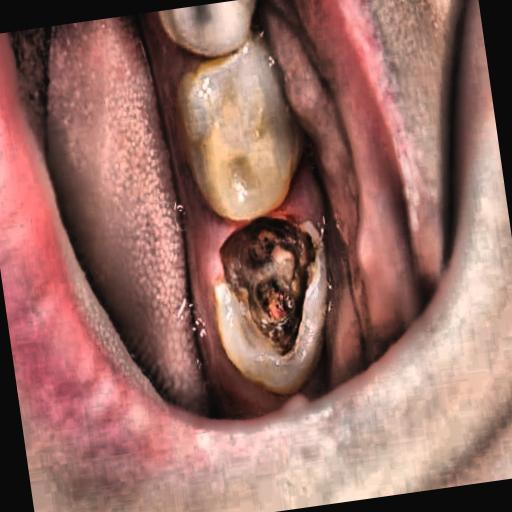Caries: (193, 203, 342, 382)
